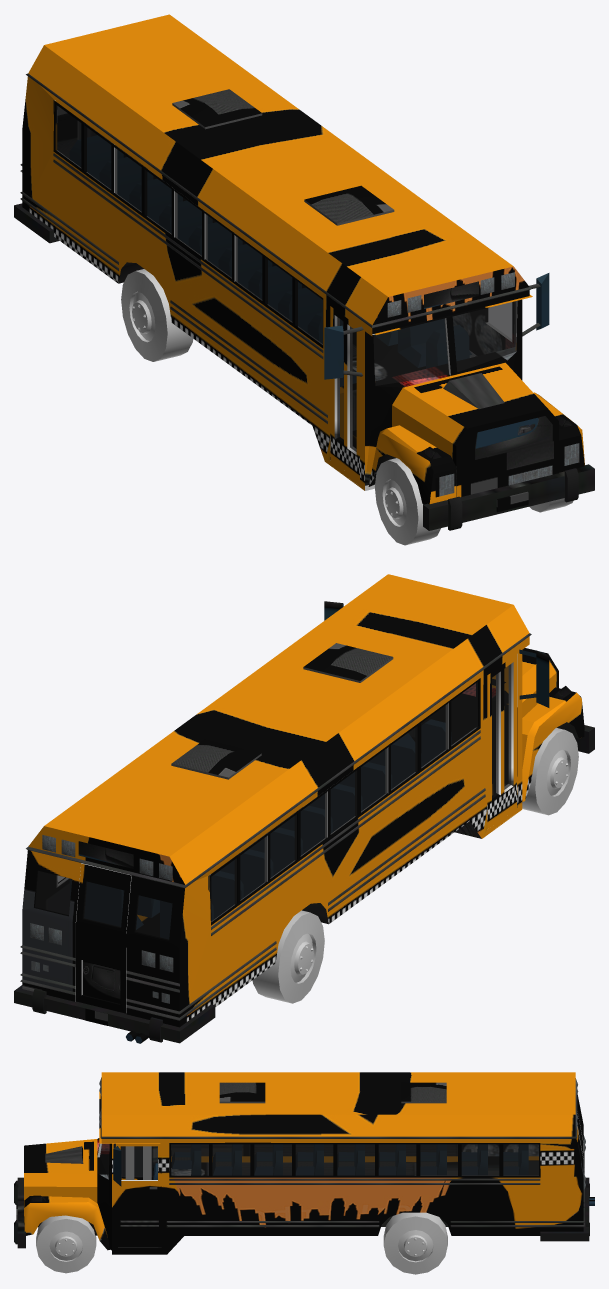
Rendered from Bus.FBX.
3 views of the same model, one above another, from view 1: azimuth 30°, elevation 25°; view 2: azimuth 150°, elevation 25°; view 3: azimuth 270°, elevation 25° (orthographic). The views are drawn at different scales.
Visible parts, largest first — view 1: Bus_Body, Bus_Wheel_BR, Bus_Wheel_FR; view 2: Bus_Body, Bus_Wheel_BR, Bus_Wheel_FR; view 3: Bus_Body, Bus_Wheel_BL, Bus_Wheel_FL.
Part boxes in pixels (x1=…): Bus_Body: x1=14, y1=14, x2=594, y2=530; Bus_Wheel_BR: x1=121, y1=269, x2=193, y2=361; Bus_Wheel_FR: x1=374, y1=458, x2=440, y2=545; Bus_Body: x1=14, y1=574, x2=594, y2=1043; Bus_Wheel_BR: x1=252, y1=910, x2=324, y2=1003; Bus_Wheel_FR: x1=522, y1=728, x2=578, y2=815; Bus_Body: x1=14, y1=1072, x2=594, y2=1254; Bus_Wheel_BL: x1=383, y1=1212, x2=447, y2=1274; Bus_Wheel_FL: x1=36, y1=1215, x2=96, y2=1273.
Size of the model in its own units: 15.96 by 15.74 by 51.84.
